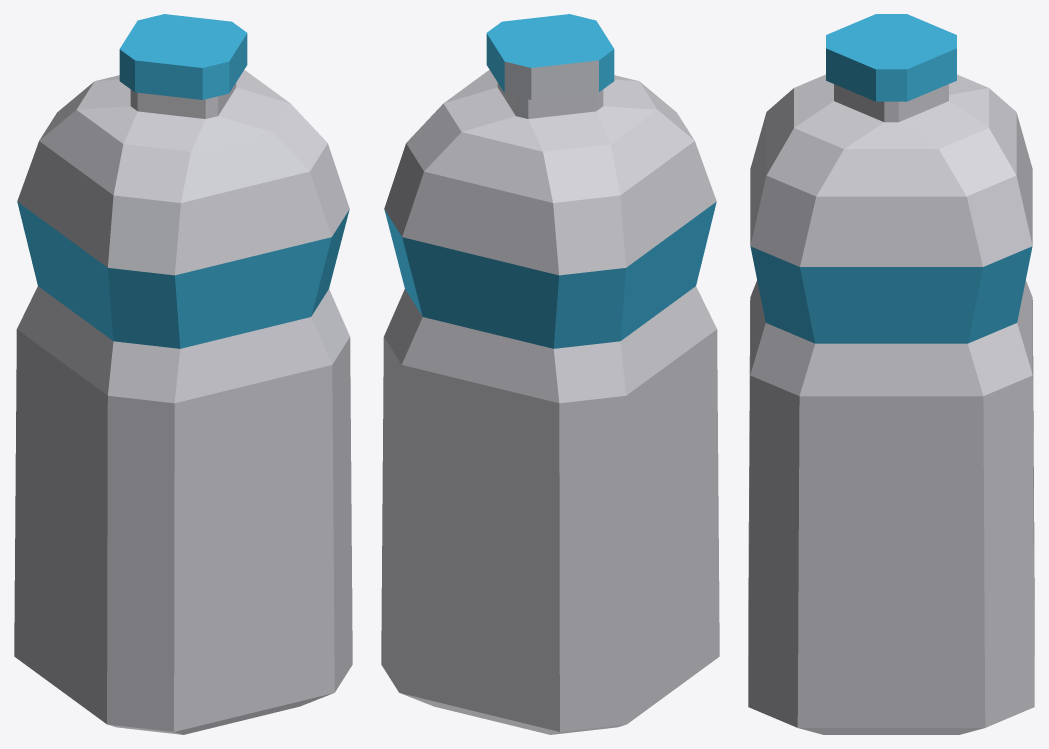
The model's file is BotellaPlastico.fbx.
3 renders of one model, left to right at view 1: azimuth 30°, elevation 25°; view 2: azimuth 150°, elevation 25°; view 3: azimuth 270°, elevation 25°, orthographic.
Visible parts, largest first — view 1: BotellaPlastica; view 2: BotellaPlastica; view 3: BotellaPlastica.
Boxes of the visible parts, x1,y1,x2,y2 form: BotellaPlastica: [14, 14, 352, 734]; BotellaPlastica: [381, 14, 719, 734]; BotellaPlastica: [748, 14, 1034, 734].
Size of the model in its own units: 206 by 511 by 206.
